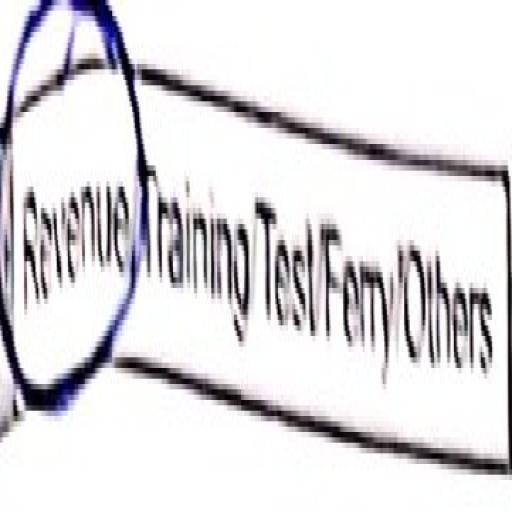check: (0, 0, 142, 437)
